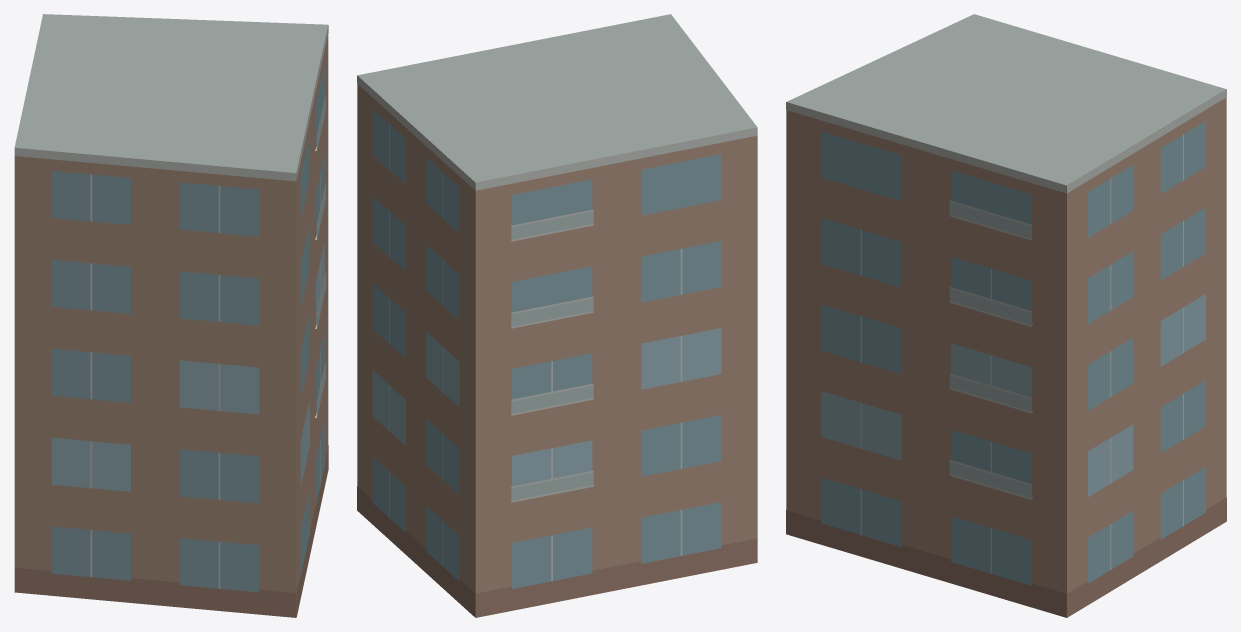
File: survey-upis-32677654.glb
3 renders of one model, left to right at view 1: azimuth 30°, elevation 25°; view 2: azimuth 150°, elevation 25°; view 3: azimuth 270°, elevation 25°, orthographic. The views are drawn at different scales.
Parts seen in each view (by area): view 1: survey-upis-32677654.tmp; view 2: survey-upis-32677654.tmp; view 3: survey-upis-32677654.tmp.
Part boxes in pixels (x1,y1,x2,y2): survey-upis-32677654.tmp: (14,14,328,617); survey-upis-32677654.tmp: (357,14,757,617); survey-upis-32677654.tmp: (786,14,1226,617).
Bounding box in the file's own units: 11.2 × 13.15 × 12.15.
